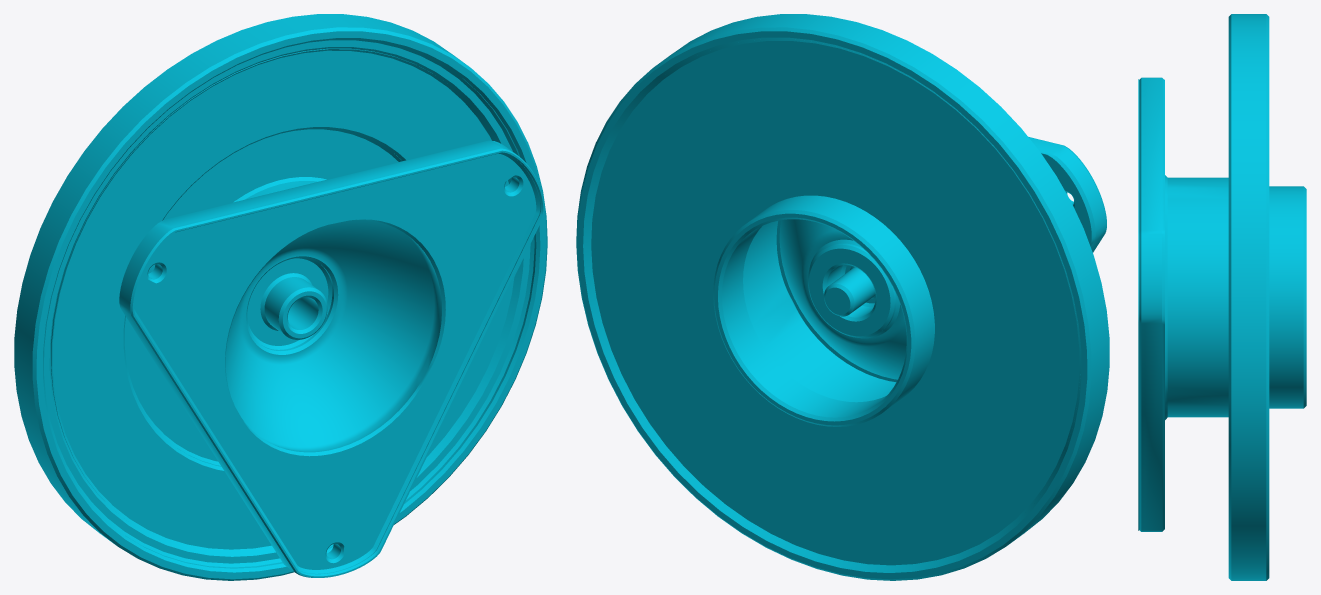
3 renders of one model, left to right at view 1: azimuth 30°, elevation 25°; view 2: azimuth 150°, elevation 25°; view 3: azimuth 270°, elevation 25°, orthographic. The views are drawn at different scales.
Parts seen in each view (by area): view 1: Cylinder.001; view 2: Cylinder.001; view 3: Cylinder.001.
Boxes of the visible parts, box(x1,y1,x2,y2) form: Cylinder.001: box(14, 14, 547, 580); Cylinder.001: box(576, 14, 1109, 580); Cylinder.001: box(1138, 14, 1306, 580).
Bounding box in the file's own units: 1.79 × 1.79 × 0.5323.
